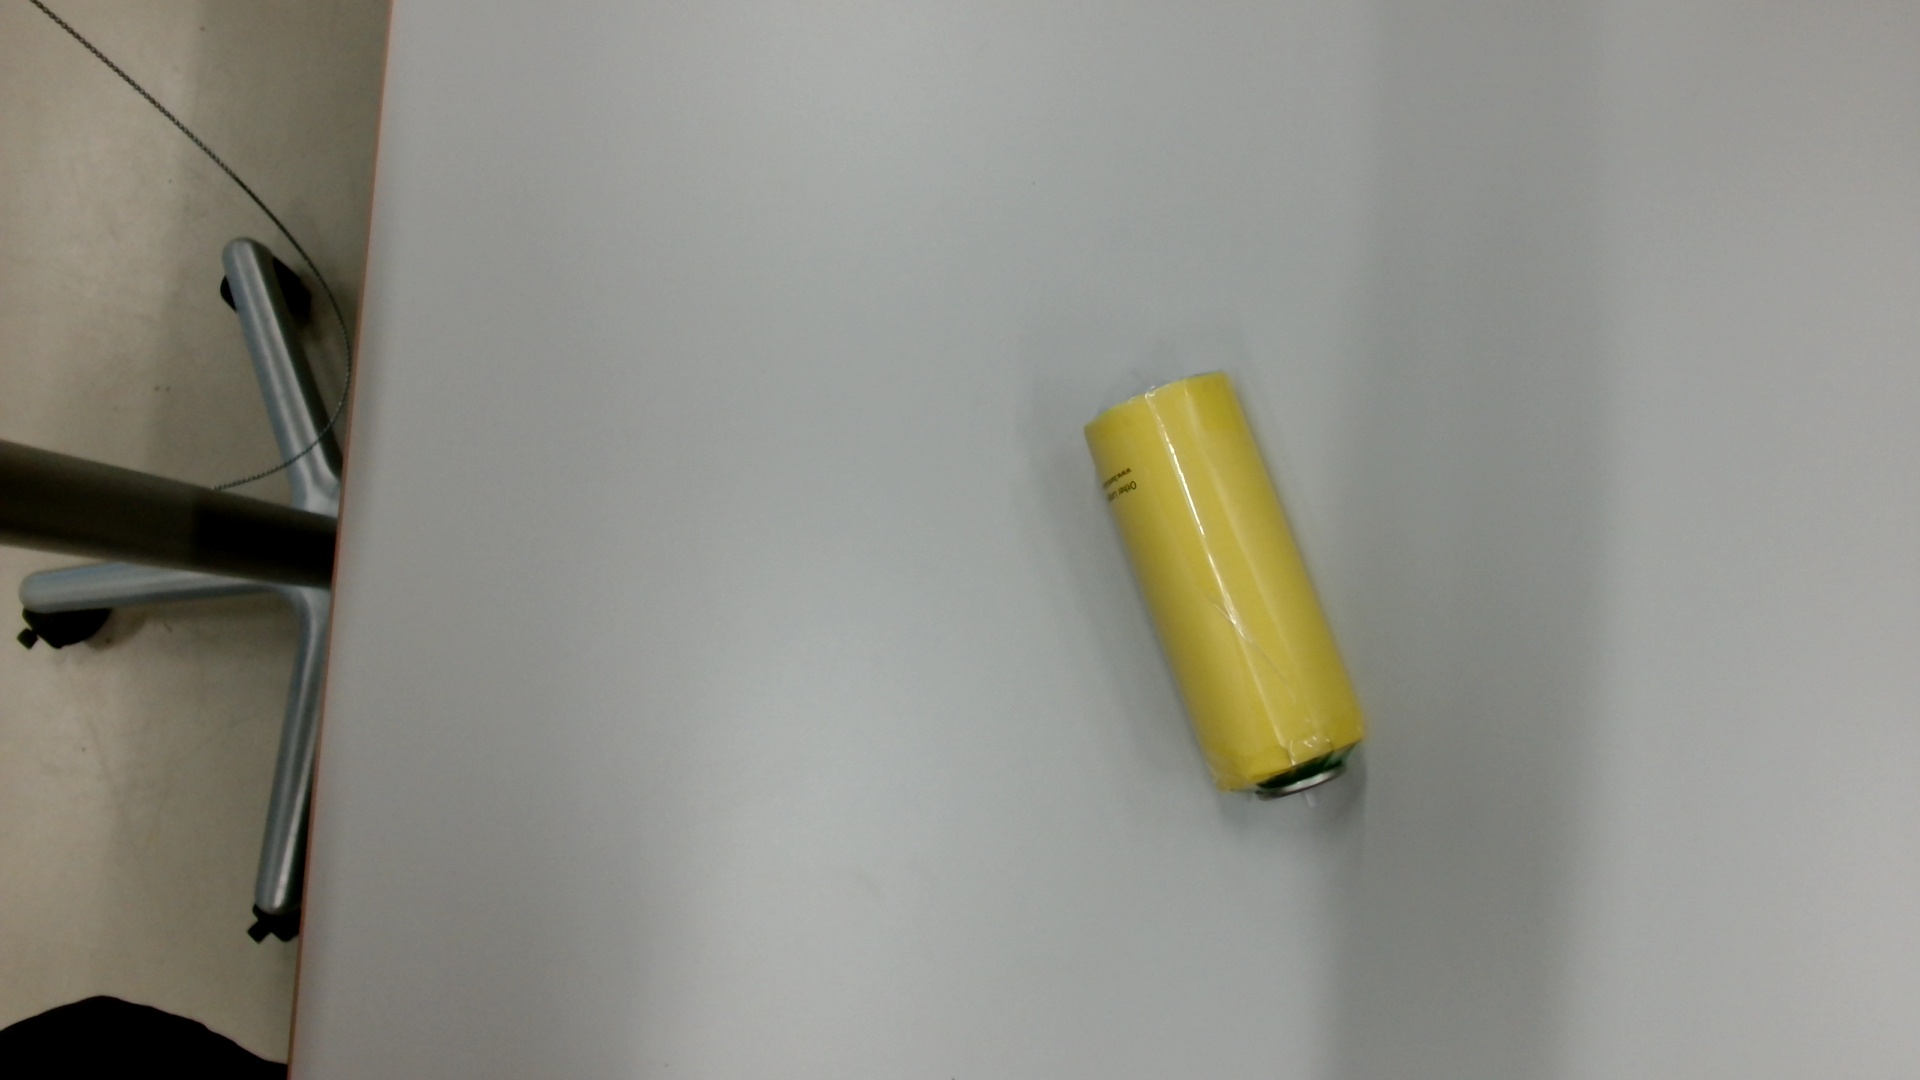Cylinder: (1073, 363, 1386, 819)
